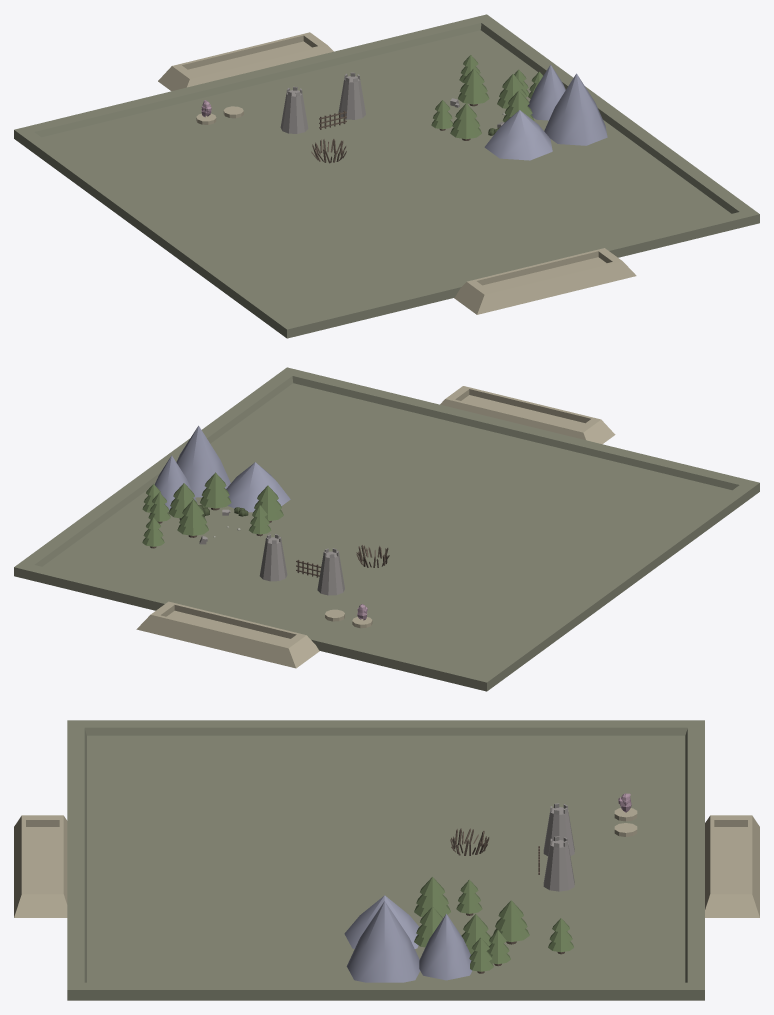
The model's file is tablero.fbx.
The picture shows the model from 3 angles, top to bottom: view 1: azimuth 30°, elevation 25°; view 2: azimuth 150°, elevation 25°; view 3: azimuth 270°, elevation 25°; orthographic projection. The views are drawn at different scales.
Parts seen in each view (by area): view 1: escenario, apoya_mazo2, montanias, grupo_arboles, montaña, torres_defensa, arbol; view 2: escenario, apoya_mazo2, grupo_arboles, montanias, torres_defensa, montaña, arbol; view 3: escenario, apoya_mazo2, montanias, grupo_arboles, torres_defensa, montaña, arbol, zona_atq.
Part boxes in pixels (bbox=[...]): escenario: bbox=[14, 14, 759, 338]; apoya_mazo2: bbox=[158, 32, 636, 314]; montanias: bbox=[528, 64, 607, 145]; grupo_arboles: bbox=[431, 55, 542, 140]; montaña: bbox=[484, 110, 552, 160]; torres_defensa: bbox=[280, 72, 365, 133]; arbol: bbox=[458, 68, 489, 106]; escenario: bbox=[14, 367, 759, 691]; apoya_mazo2: bbox=[136, 386, 615, 668]; grupo_arboles: bbox=[142, 472, 283, 548]; montanias: bbox=[154, 425, 230, 509]; torres_defensa: bbox=[259, 534, 344, 595]; montaña: bbox=[226, 462, 290, 512]; arbol: bbox=[177, 500, 208, 537]; escenario: bbox=[67, 720, 704, 1000]; apoya_mazo2: bbox=[14, 815, 759, 917]; montanias: bbox=[346, 901, 472, 982]; grupo_arboles: bbox=[414, 877, 573, 973]; torres_defensa: bbox=[543, 803, 574, 891]; montaña: bbox=[344, 895, 418, 948]; arbol: bbox=[493, 900, 529, 944]; zona_atq: bbox=[450, 828, 489, 855].
Size of the model in its own units: 20 by 2.73 by 23.39.
